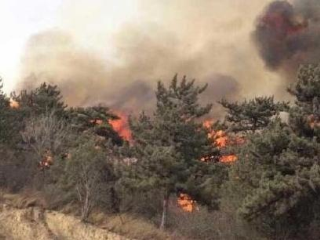fire: (200, 121, 247, 168), (102, 105, 137, 147), (173, 188, 205, 217)
smoke: (23, 25, 272, 107)
